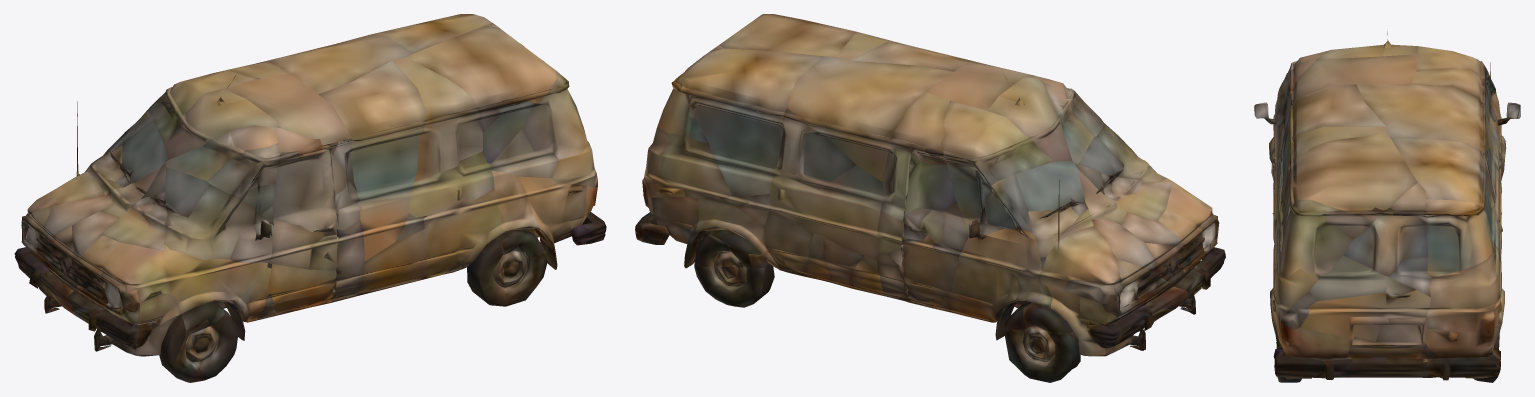
The model's file is car_minivan_light_q1.glb.
The picture shows the model from 3 angles, left to right: view 1: azimuth 30°, elevation 25°; view 2: azimuth 150°, elevation 25°; view 3: azimuth 270°, elevation 25°; orthographic projection.
Bounding box in the file's own units: 3.66 × 1.73 × 1.72.
1 material, 1 textured.
